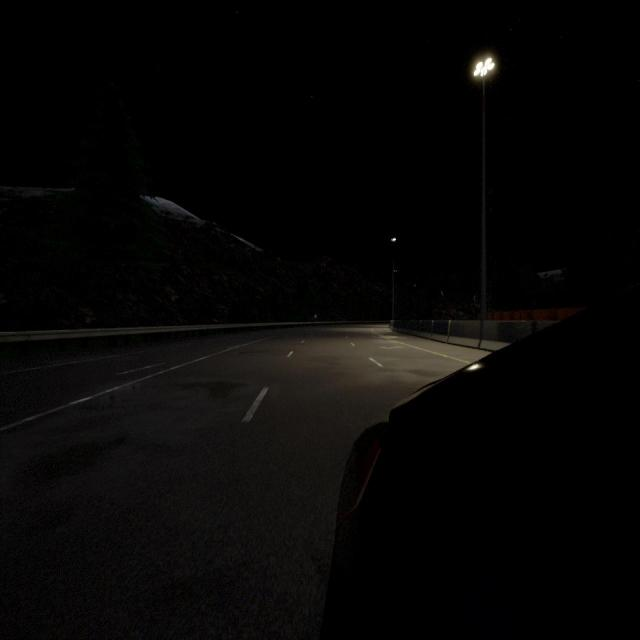Traffic_Signs: (314, 314, 316, 318)
Vehicle: (322, 286, 640, 637)
